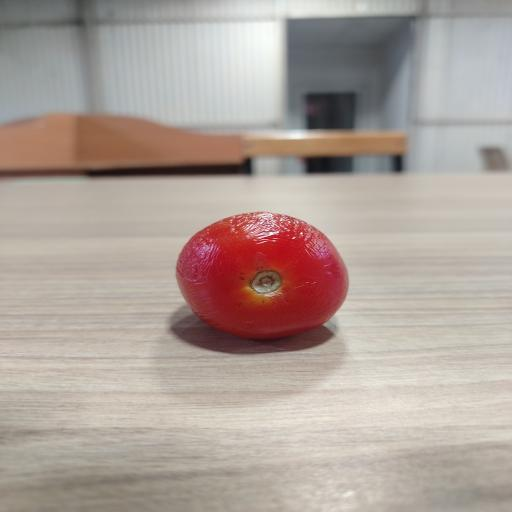spoiled: (176, 212, 348, 338)
